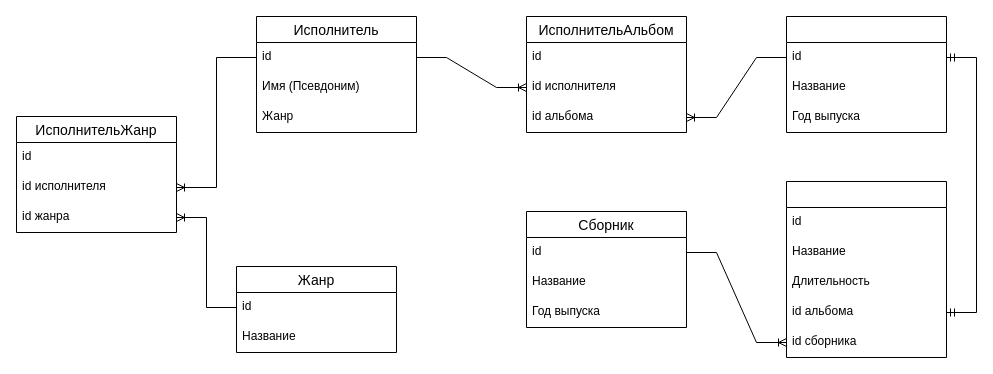
This 993x374 diagram has some shape labels left out. Here are the shapes that lost their labels. From the top down, the box of each, then its label:
(786, 16, 946, 132): Альбом
(786, 180, 946, 358): Трек
